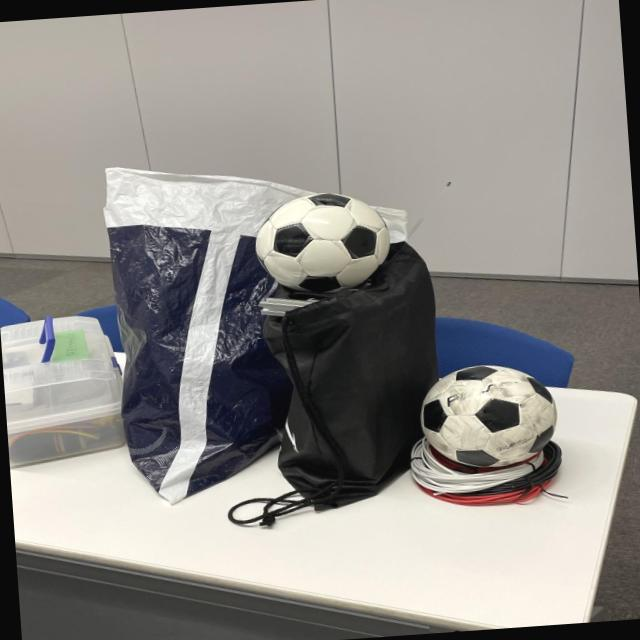Soccer Ball: (418, 359, 559, 475), (250, 190, 391, 296)
